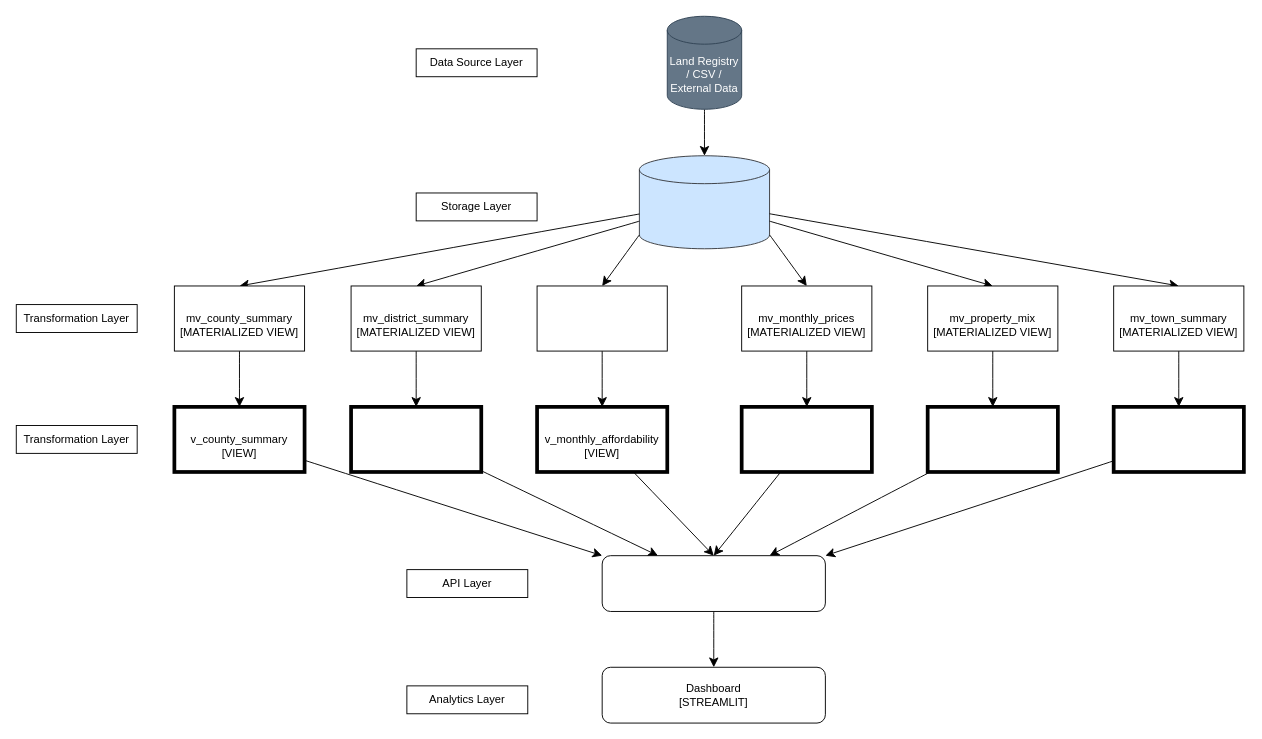
The diagram is 1262 pixels wide and 739 high, and some of its shapes have lost their labels. The centre of each missing label's shape, as x and y in pixels:
"API [FAST API]" belongs at (x=713, y=583).
"mv_monthly_affordability [MATERIALIZED VIEW]" belongs at (x=601, y=318).
"transactions [POSTGRES/DOCKER TABLE]" belongs at (x=704, y=202).
"v_ district_summary [VIEW]" belongs at (x=416, y=439).
"v_ monthly_prices [VIEW]" belongs at (x=806, y=439).
"v_ property_mix [VIEW]" belongs at (x=992, y=439).
"v_ town_summary [VIEW]" belongs at (x=1178, y=439).
